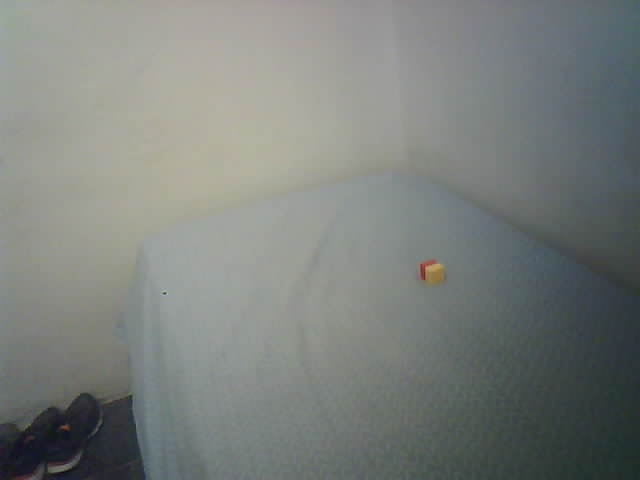lego: (419, 259, 446, 285)
